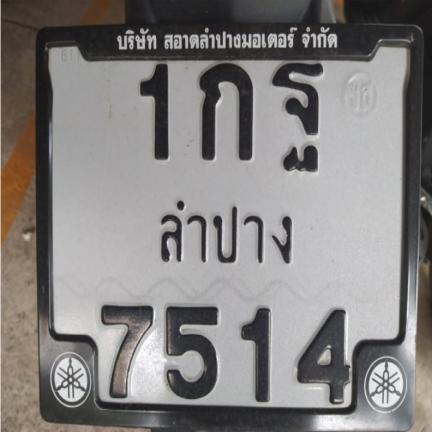1: (125, 55, 175, 172), (232, 300, 286, 407)
4: (292, 301, 357, 405)
5: (159, 301, 225, 403)
7: (95, 301, 153, 402)
A01: (193, 55, 257, 173)
A16: (269, 60, 329, 177)
LPG: (145, 192, 306, 277)
